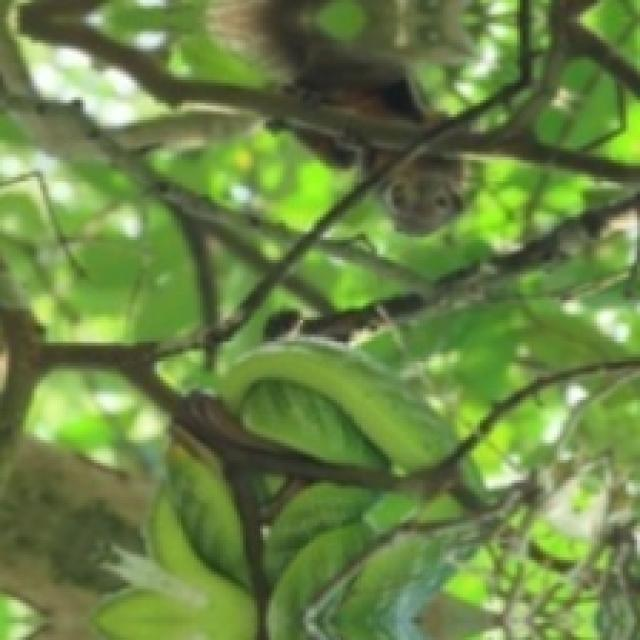red-tailed green ratsnake: (99, 446, 472, 640), (230, 340, 458, 471)
